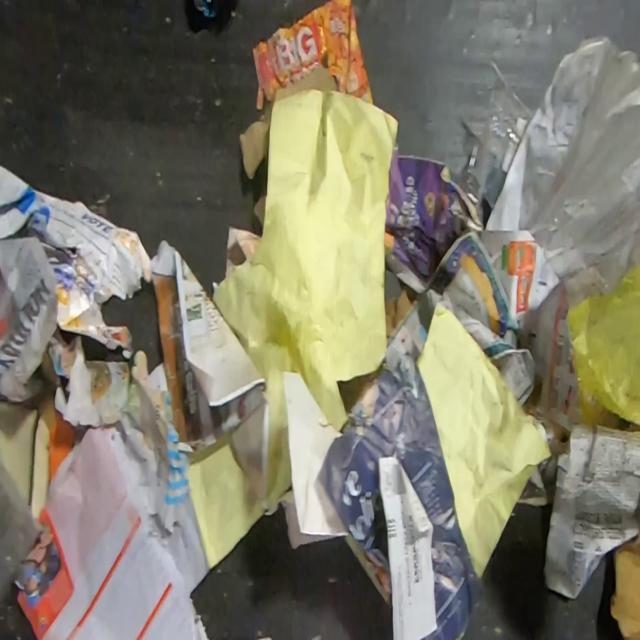cardboard: (0, 400, 50, 518)
rigid_plastic: (466, 104, 521, 224)
soft_plastic: (485, 34, 640, 310), (0, 463, 44, 640)
